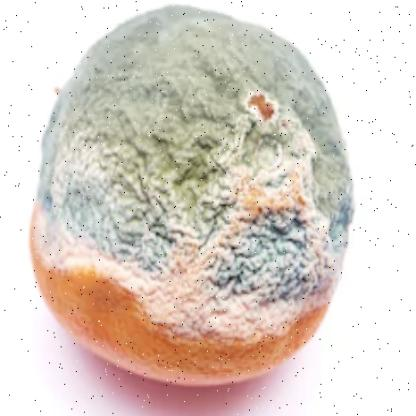rotten: (28, 4, 357, 392)
